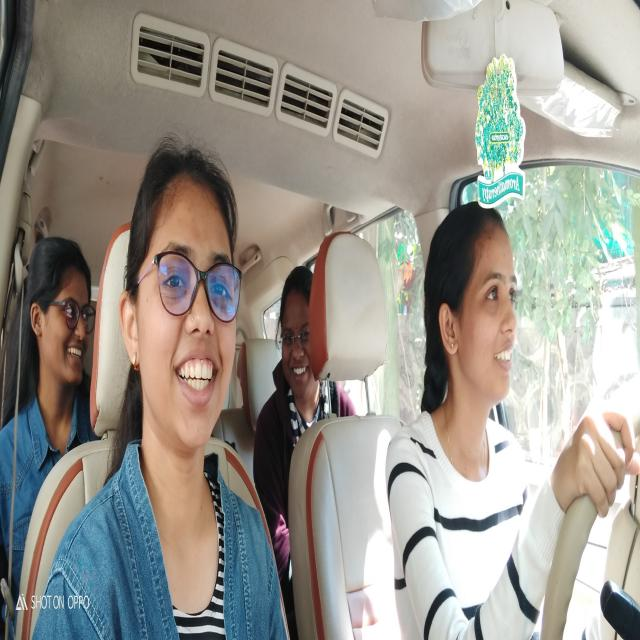person: (121, 142, 242, 455), (438, 193, 526, 422), (32, 225, 99, 418), (274, 261, 324, 423)
